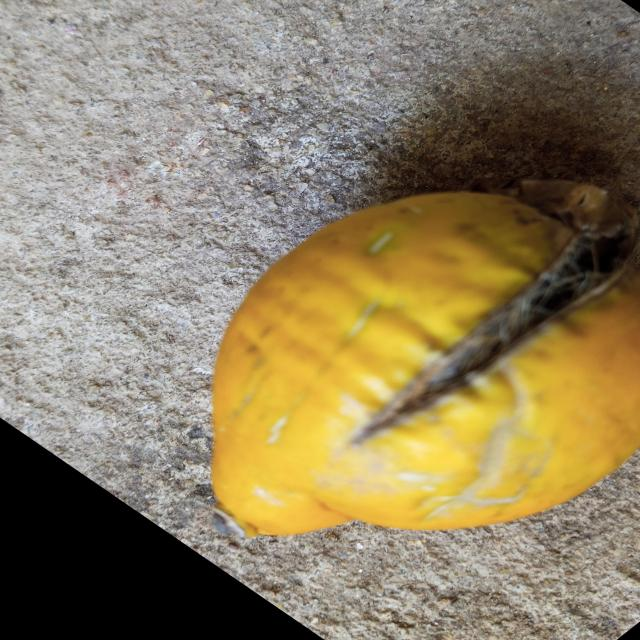damaged: (208, 182, 640, 540)
